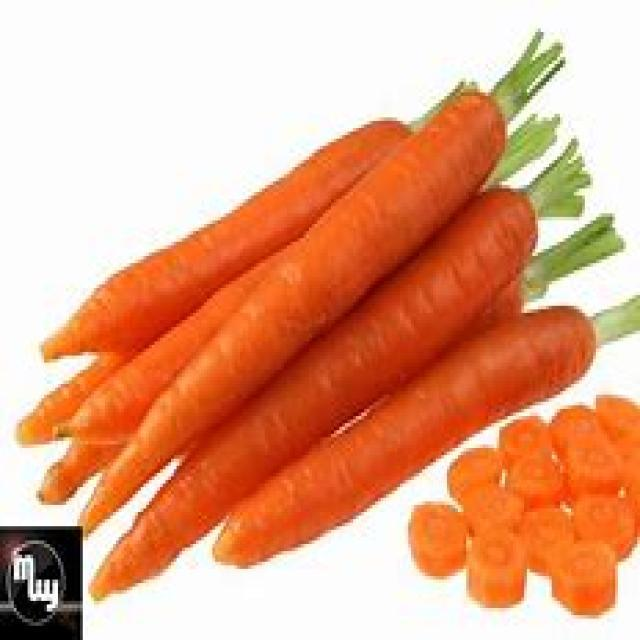carrot: (75, 81, 512, 529), (101, 178, 535, 579), (215, 309, 598, 569)
